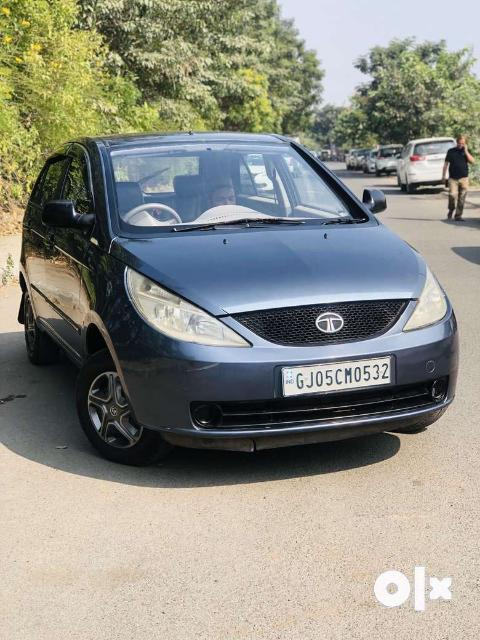Indian_Number_Plate: (286, 358, 393, 396)
